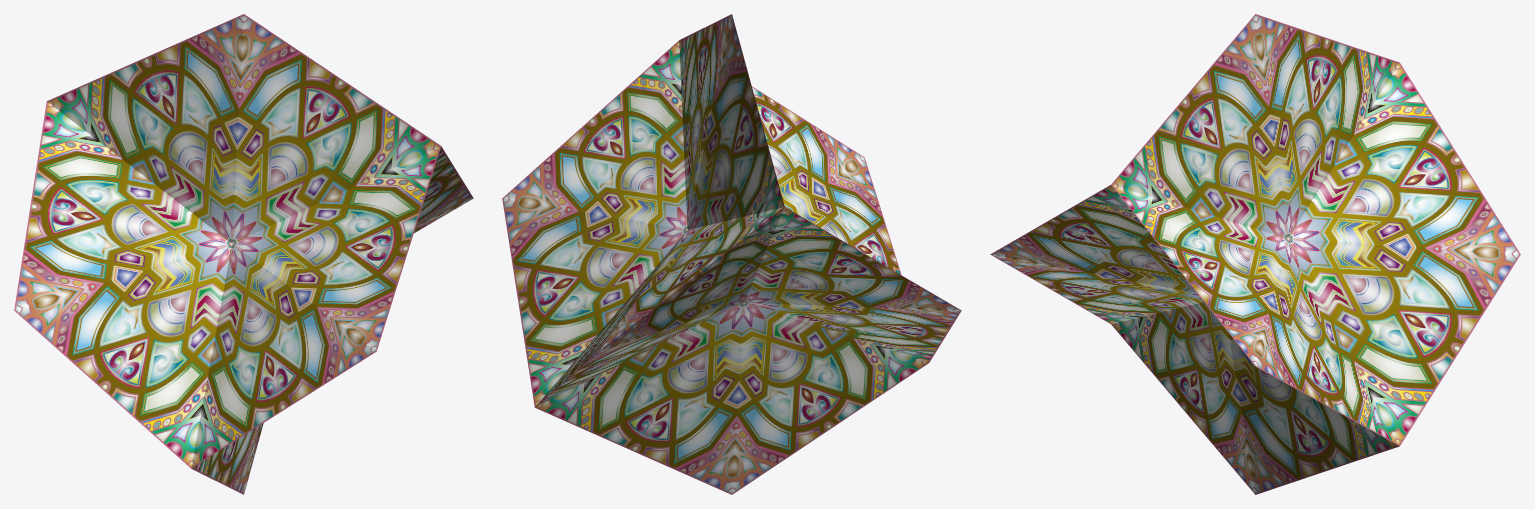
Rendered from 6Mobius24.obj.
3 renders of one model, left to right at view 1: azimuth 30°, elevation 25°; view 2: azimuth 150°, elevation 25°; view 3: azimuth 270°, elevation 25°, orthographic.
Bounding box in the file's own units: 2.24 × 2.24 × 2.24.
Materials: 1 (1 with a texture image).
